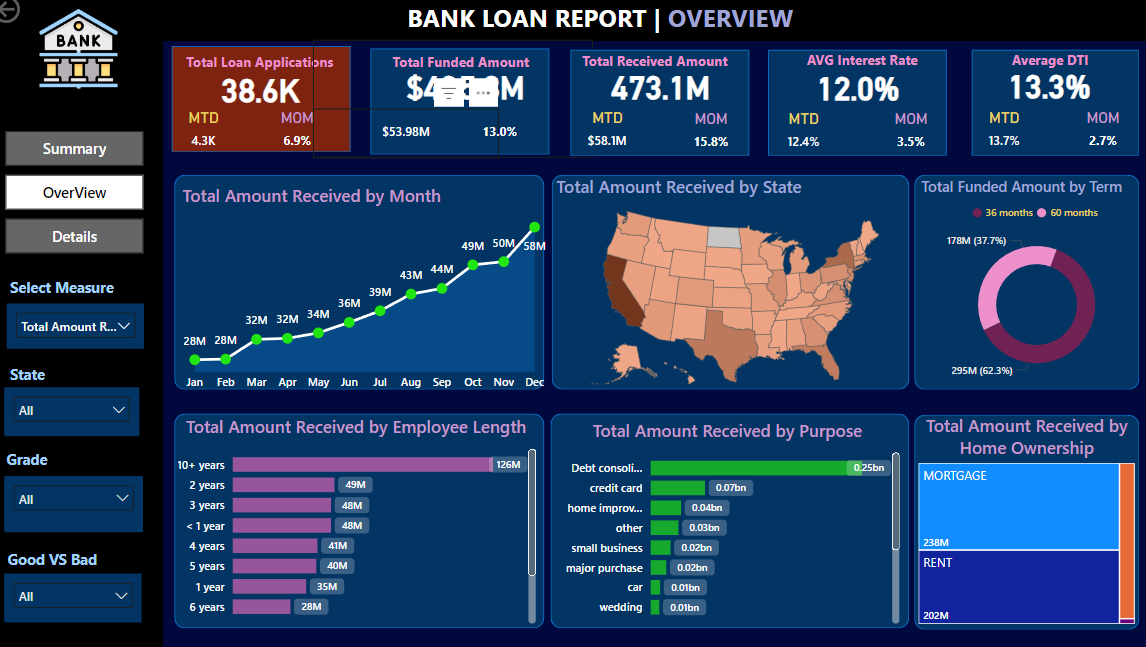

This screenshot's page, from the dashboard's own definition file:
{"tool":"powerbi","page":{"name":"OverView","canvas":[1280,720],"ordinal":1},"visuals":[{"type":"shape","box":[0,0,1280.3,54.9],"z":0},{"type":"card","fields":{"Values":["Date_Table.Average DTI"]},"box":[1089.5,52,144.9,99.6],"z":0,"group":"g2"},{"type":"card","fields":{"Values":["Date_Table.Total Amount Received"]},"box":[641.6,52.9,189,98.6],"z":0,"group":"g3"},{"type":"card","fields":{"Values":["Date_Table.TOTAL FUNDED AMOUNT"]},"box":[428.6,53.6,189,98.6],"z":0,"group":"g5"},{"type":"card","fields":{"Values":["Date_Table.AVG Interest RAte"]},"box":[858.5,54.8,189,98.6],"z":0,"group":"g4"},{"type":"card","fields":{"Values":["financial_loan.Total_Loan_Applications"]},"box":[204,57.5,189,98.6],"z":0,"group":"g1"},{"type":"slicer","fields":{"Values":["financial_loan.address_state"]},"box":[17.8,434,147.9,53.4],"z":0,"group":"g11"},{"type":"slicer","fields":{"Values":["financial_loan.grade"]},"box":[17.8,531.3,152,61.6],"z":0,"group":"g10"},{"type":"textbox","box":[16.7,607.2,299.9,31.5],"z":0,"group":"g9"},{"type":"textbox","box":[857.7,60.1,201.3,49.3],"z":1000,"group":"g4"},{"type":"textbox","box":[1067.9,60.2,154.7,50.7],"z":1000,"group":"g2"},{"type":"textbox","box":[629.6,60.7,201.3,49.3],"z":1000,"group":"g3"},{"type":"textbox","box":[197.2,63,201.3,49.3],"z":1000,"group":"g1"},{"type":"textbox","box":[438.1,63.8,201.3,49.3],"z":1000,"group":"g5"},{"type":"shape","box":[204,201.3,405.3,235.5],"z":1000},{"type":"textbox","box":[19.2,308.1,132.8,34.2],"z":1000,"group":"g13"},{"type":"textbox","box":[19.1,403.9,107.9,49.3],"z":1000,"group":"g11"},{"type":"textbox","box":[15.7,497.1,110.9,49.3],"z":1000,"group":"g12"},{"type":"slicer","fields":{"Values":["financial_loan.Good VS Bad Loan"]},"box":[17.8,638.7,150.6,53.4],"z":1000,"group":"g9"},{"type":"shape","box":[0,54.9,192,665],"z":2000},{"type":"card","title":"MTD","fields":{"Values":["Date_Table.MTD Amount Received"]},"box":[576.5,128.2,204,54.8],"z":2000,"group":"g3"},{"type":"card","title":"MTD","fields":{"Values":["Date_Table.MTD Avg DTI"]},"box":[1035,128.6,156.1,56.1],"z":2000,"group":"g2"},{"type":"card","title":"MTD","fields":{"Values":["Date_Table.MTD_Loan_Applications"]},"box":[134.2,128.7,204,54.8],"z":2000,"group":"g1"},{"type":"card","title":"MTD","fields":{"Values":["Date_Table.MTD FUnded Amount"]},"box":[356,128.9,204,54.8],"z":2000,"group":"g5"},{"type":"card","title":"MTD","fields":{"Values":["Date_Table.MTD Avg Interest rate"]},"box":[791.4,130.7,204,54.8],"z":2000,"group":"g4"},{"type":"textbox","box":[440.5,5.5,459.7,49.4],"z":3000},{"type":"card","title":"MOM","fields":{"Values":["Date_Table.MOM Applications"]},"box":[236.9,128.7,204,54.8],"z":3000,"group":"g1"},{"type":"card","title":"MOM","fields":{"Values":["Date_Table.MOM Funded Amount"]},"box":[458.7,128.9,204,54.8],"z":3000,"group":"g5"},{"type":"shape","box":[201.3,60.2,195.8,116.4],"z":4000},{"type":"card","title":"MOM","fields":{"Values":["Date_Table.MOM Avg DTI"]},"box":[1163.7,128.6,115,56.1],"z":4000,"group":"g2"},{"type":"card","title":"MOM","fields":{"Values":["Date_Table.MOM Amount Received"]},"box":[689.5,129.6,204,54.8],"z":4000,"group":"g3"},{"type":"card","title":"MOM","fields":{"Values":["Date_Table.MOM Avg int rate"]},"box":[909.6,130.7,204,54.8],"z":4000,"group":"g4"},{"type":"group","id":"g1","title":"Group 1","box":[134.2,57.5,306.7,126],"z":5000},{"type":"shape","box":[638.1,63.4,195.8,116.4],"z":5500,"group":"g6"},{"type":"shape","box":[1077.8,64.2,183.5,116.4],"z":5500,"group":"g8"},{"type":"shape","box":[853.8,64.8,195.8,116.4],"z":5500,"group":"g7"},{"type":"group","id":"g2","title":"Group 1","box":[1035,52,243.7,132.8],"z":6000,"group":"g8"},{"type":"group","id":"g3","title":"Group 1","box":[576.5,52.9,317,131.5],"z":6000,"group":"g6"},{"type":"group","id":"g4","title":"Group 1","box":[791.4,54.8,322.2,130.7],"z":6000,"group":"g7"},{"type":"shape","box":[419,63,195.8,116.4],"z":6000},{"type":"group","id":"g5","title":"Group 1","box":[356,53.6,306.7,130.1],"z":7000},{"type":"group","id":"g6","title":"Group 2","box":[576.5,52.9,317,131.5],"z":8000},{"type":"group","id":"g7","title":"Group 2","box":[791.4,54.8,321.8,131.5],"z":9000},{"type":"group","id":"g8","title":"Group 2","box":[1035,52,243.7,132.8],"z":10000},{"type":"actionButton","box":[0,0,100,40],"z":11000},{"type":"group","id":"g9","title":"Group 3","box":[16.7,607.2,299.9,84.9],"z":12000},{"type":"group","id":"g10","title":"Group 4","box":[17.8,531.3,152,61.6],"z":13000},{"type":"group","id":"g11","title":"Group 5","box":[17.8,403.9,147.9,83.5],"z":14000},{"type":"slicer","fields":{"Values":["Select Measure.Select Measure"]},"box":[20.5,342.3,150.6,49.3],"z":15000},{"type":"group","id":"g12","title":"Group 5","box":[15.7,497.1,110.9,49.3],"z":16000},{"type":"group","id":"g13","title":"Group 5","box":[19.2,308.1,132.8,34.2],"z":17000},{"type":"areaChart","fields":{"Y":["Date_Table.Total Amount Received"],"Category":["Date_Table.Month"]},"box":[208.1,210.9,409.4,235.5],"z":18000},{"type":"shape","box":[617.5,201.3,391.6,235.5],"z":19000},{"type":"shapeMap","title":"Total Amount Received by State","fields":{"Value":["Date_Table.Total Amount Received"],"Category":["financial_loan.address_state"]},"box":[617.5,201.3,402.6,245.1],"z":20000},{"type":"shape","box":[1014.6,201.3,246.5,235.5],"z":21000},{"type":"donutChart","title":"Total Funded Amount by Term","fields":{"Y":["Date_Table.Total Amount Received"],"Category":["financial_loan.term"]},"box":[1017.4,202.7,262.9,232.8],"z":22000},{"type":"shape","box":[204,462.8,405.3,235.5],"z":23000},{"type":"barChart","title":"Total Amount Received by Employee  Length","fields":{"Y":["Date_Table.Total Amount Received"],"Category":["financial_loan.emp_length"]},"box":[201.3,464.2,403.9,234.1],"z":24000},{"type":"shape","box":[616.2,462.8,393,235.5],"z":25000},{"type":"barChart","title":"Total Amount Received by Purpose","fields":{"Y":["Date_Table.Total Amount Received"],"Category":["financial_loan.purpose"]},"box":[616.2,468.3,387.5,230],"z":26000},{"type":"shape","box":[1014.6,464.2,246.5,235.5],"z":27000},{"type":"treemap","fields":{"Values":["Date_Table.Total Amount Received"],"Group":["financial_loan.home_ownership"]},"box":[1014.6,462.8,246.5,235.5],"z":28000},{"type":"pageNavigator","box":[19.2,153.4,152,135.6],"z":29000},{"type":"image","box":[38.3,12.3,121.9,101.3],"z":30000}]}

Visuals, with their boxes on the page's 1280x720 design canvas (x1, y1, x2, y2). These are canvas units, not pixel positions in the 1146x647 screenshot, which may show the page scaled, cropped or inside an application window:
shape: 0/0/1280/55
card - Date_Table.Average DTI: 1090/52/1234/152
card - Date_Table.Total Amount Received: 642/53/831/152
card - Date_Table.TOTAL FUNDED AMOUNT: 429/54/618/152
card - Date_Table.AVG Interest RAte: 858/55/1048/153
card - financial_loan.Total_Loan_Applications: 204/58/393/156
slicer - financial_loan.address_state: 18/434/166/487
slicer - financial_loan.grade: 18/531/170/593
textbox: 17/607/317/639
textbox: 858/60/1059/109
textbox: 1068/60/1223/111
textbox: 630/61/831/110
textbox: 197/63/398/112
textbox: 438/64/639/113
shape: 204/201/609/437
textbox: 19/308/152/342
textbox: 19/404/127/453
textbox: 16/497/127/546
slicer - financial_loan.Good VS Bad Loan: 18/639/168/692
shape: 0/55/192/720
"MTD" card: 576/128/780/183
"MTD" card: 1035/129/1191/185
"MTD" card: 134/129/338/184
"MTD" card: 356/129/560/184
"MTD" card: 791/131/995/186
textbox: 440/6/900/55
"MOM" card: 237/129/441/184
"MOM" card: 459/129/663/184
shape: 201/60/397/177
"MOM" card: 1164/129/1279/185
"MOM" card: 690/130/894/184
"MOM" card: 910/131/1114/186
"Group 1" group: 134/58/441/184
shape: 638/63/834/180
shape: 1078/64/1261/181
shape: 854/65/1050/181
"Group 1" group: 1035/52/1279/185
"Group 1" group: 576/53/894/184
"Group 1" group: 791/55/1114/186
shape: 419/63/615/179
"Group 1" group: 356/54/663/184
"Group 2" group: 576/53/894/184
"Group 2" group: 791/55/1113/186
"Group 2" group: 1035/52/1279/185
actionButton: 0/0/100/40
"Group 3" group: 17/607/317/692
"Group 4" group: 18/531/170/593
"Group 5" group: 18/404/166/487
slicer - Select Measure.Select Measure: 20/342/171/392
"Group 5" group: 16/497/127/546
"Group 5" group: 19/308/152/342
areaChart - Date_Table.Total Amount Received x Date_Table.Month: 208/211/618/446
shape: 618/201/1009/437
"Total Amount Received by State" shapeMap: 618/201/1020/446
shape: 1015/201/1261/437
"Total Funded Amount by Term" donutChart: 1017/203/1280/436
shape: 204/463/609/698
"Total Amount Received by Employee  Length" barChart: 201/464/605/698
shape: 616/463/1009/698
"Total Amount Received by Purpose" barChart: 616/468/1004/698
shape: 1015/464/1261/700
treemap - Date_Table.Total Amount Received x financial_loan.home_ownership: 1015/463/1261/698
pageNavigator: 19/153/171/289
image: 38/12/160/114
